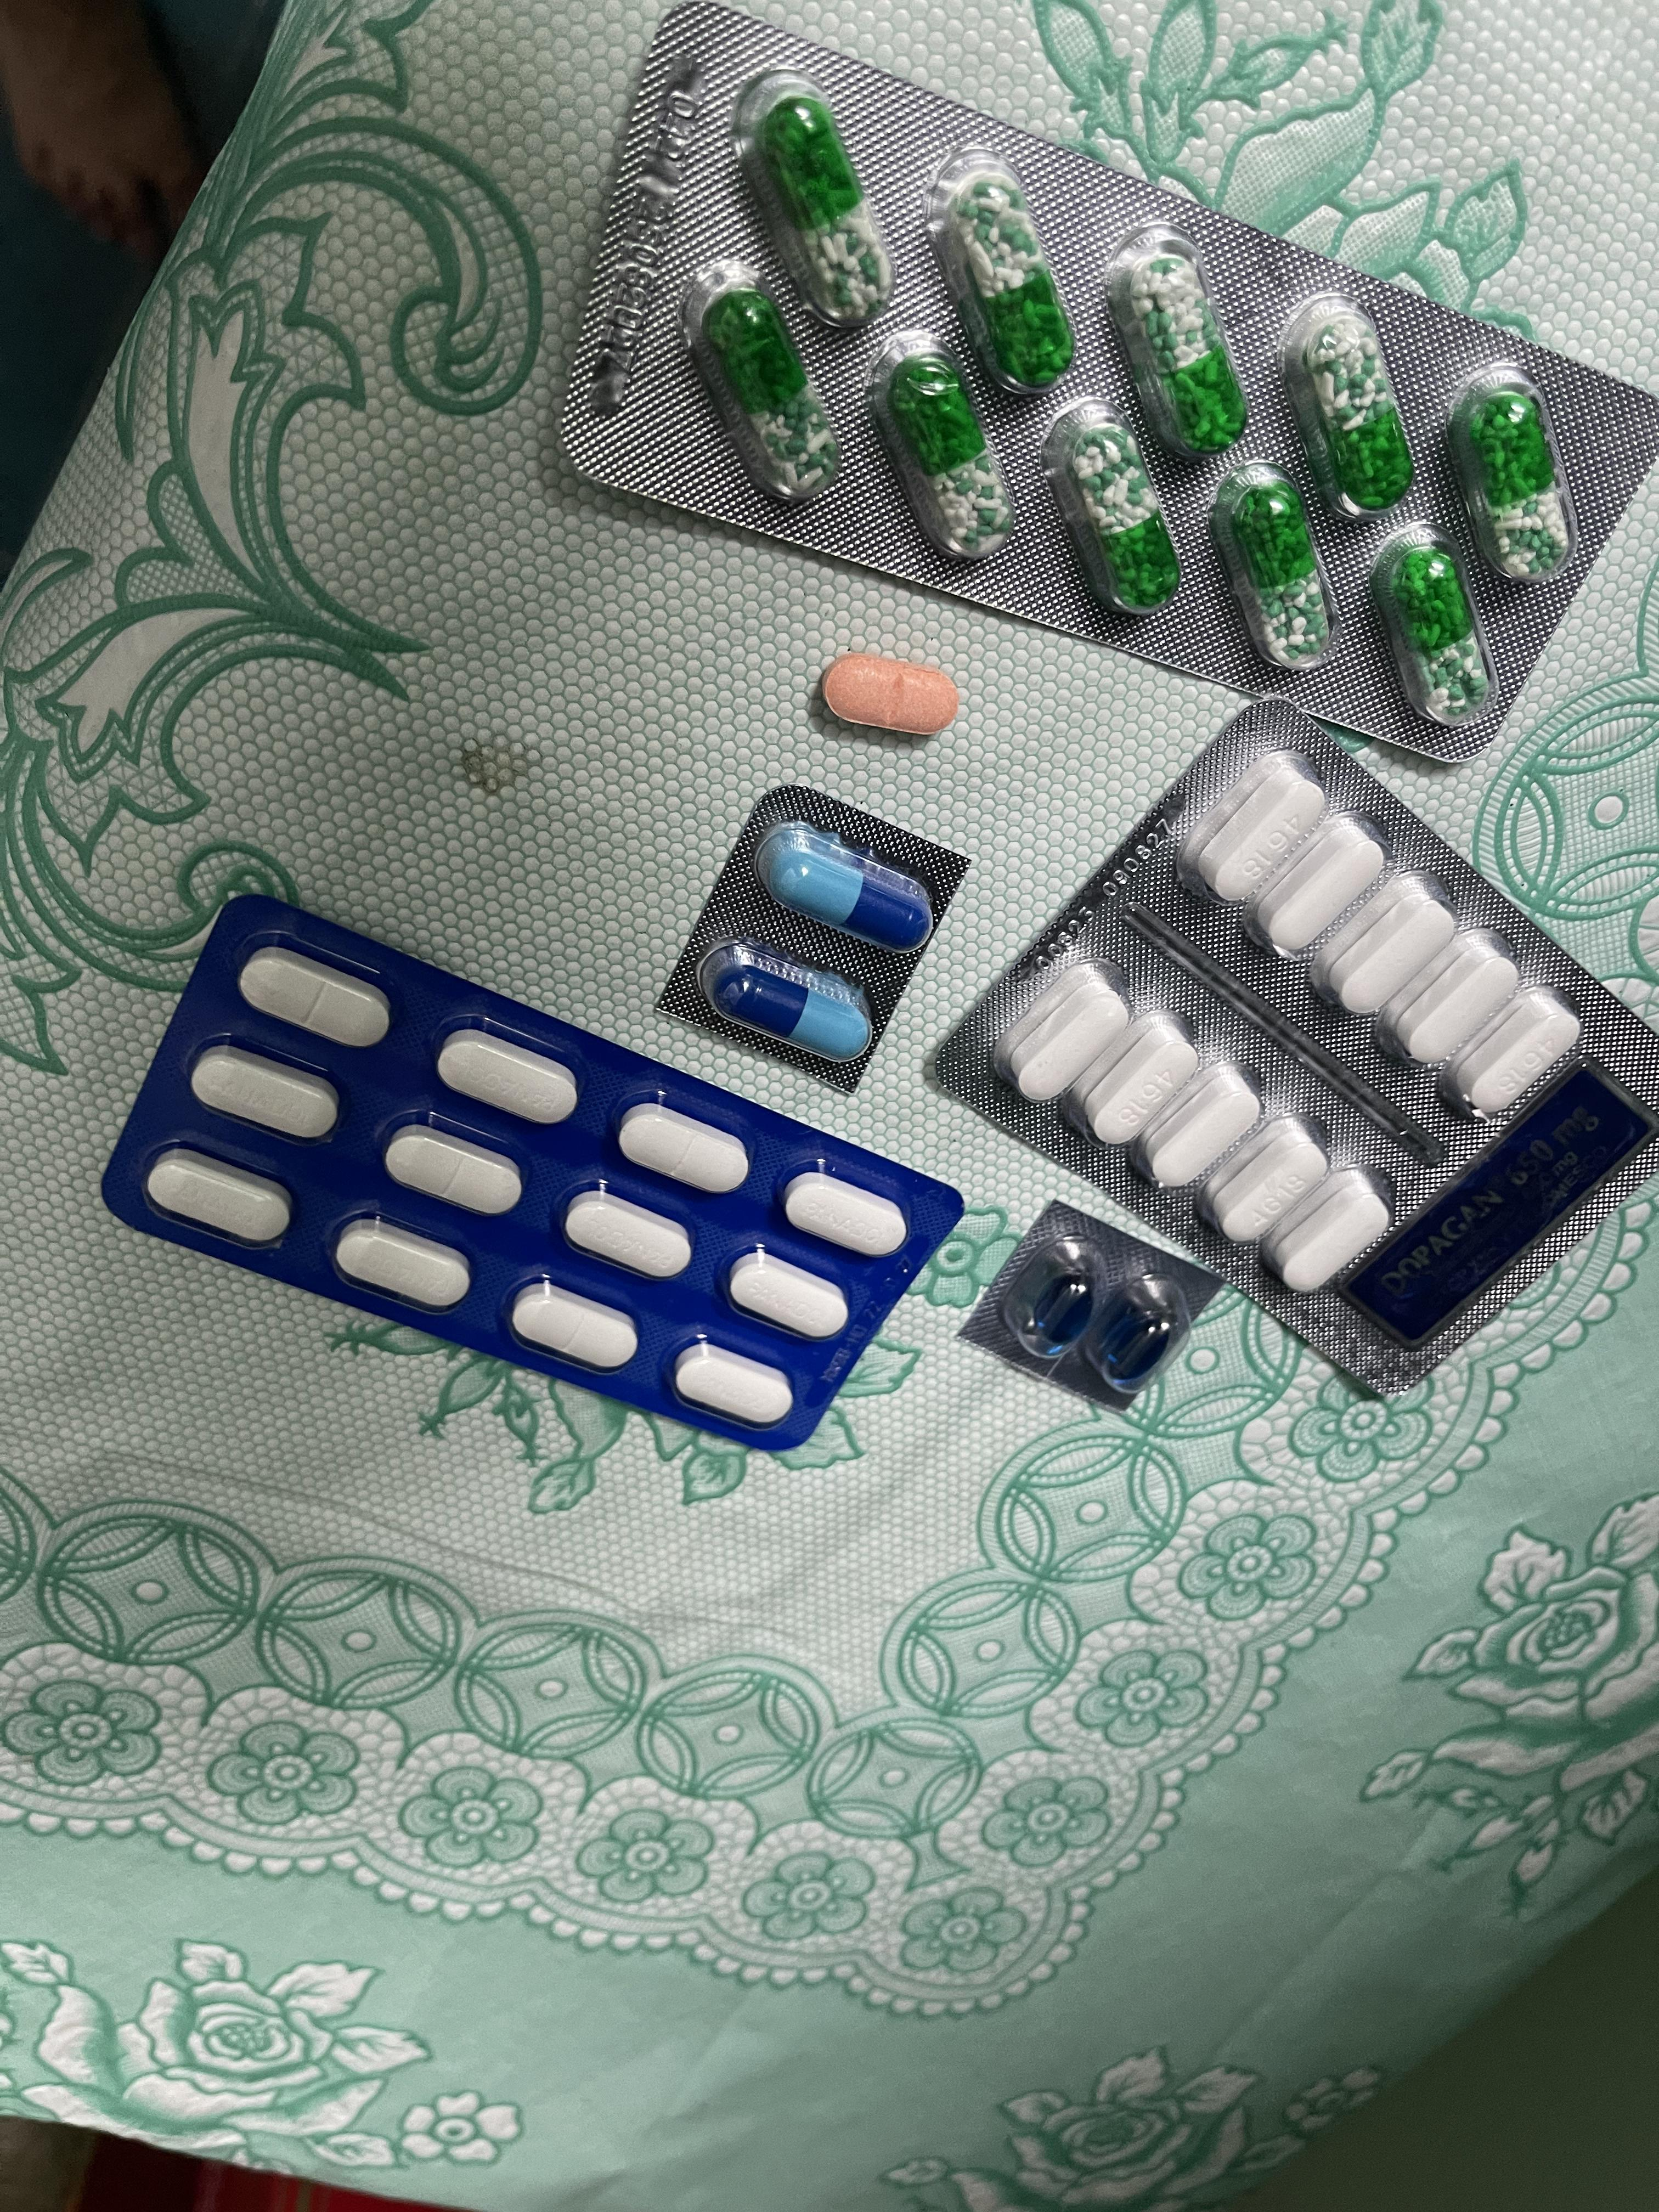Lincomyxin_500mg: (1100, 1301, 1175, 1379), (1028, 1273, 1094, 1350)
Loratadine_10mg: (819, 651, 960, 737)
Paracetamol_350mg: (240, 946, 394, 1049), (193, 1042, 343, 1144), (145, 1150, 291, 1249), (436, 1028, 580, 1123), (335, 1216, 474, 1312), (385, 1123, 523, 1216), (563, 1186, 695, 1280), (617, 1103, 749, 1195), (507, 1280, 638, 1372), (721, 1249, 849, 1341), (781, 1169, 910, 1259), (673, 1341, 795, 1426)
Paracetamol_500mg: (1185, 758, 1335, 911), (1243, 817, 1387, 958), (1317, 881, 1460, 1022), (997, 965, 1134, 1111), (1391, 941, 1528, 1073), (1445, 986, 1581, 1116), (1075, 1015, 1204, 1153), (1140, 1059, 1263, 1190), (1262, 1176, 1392, 1294), (1208, 1115, 1328, 1240)
Paracetamol_650mg: (685, 263, 840, 503), (760, 96, 889, 315), (885, 348, 1014, 564), (950, 178, 1068, 383), (1126, 253, 1244, 446), (1300, 315, 1413, 510), (1068, 427, 1175, 613), (1229, 479, 1335, 664), (1467, 392, 1568, 582), (1391, 552, 1488, 716)
pill: (758, 824, 934, 953), (708, 946, 875, 1061)
